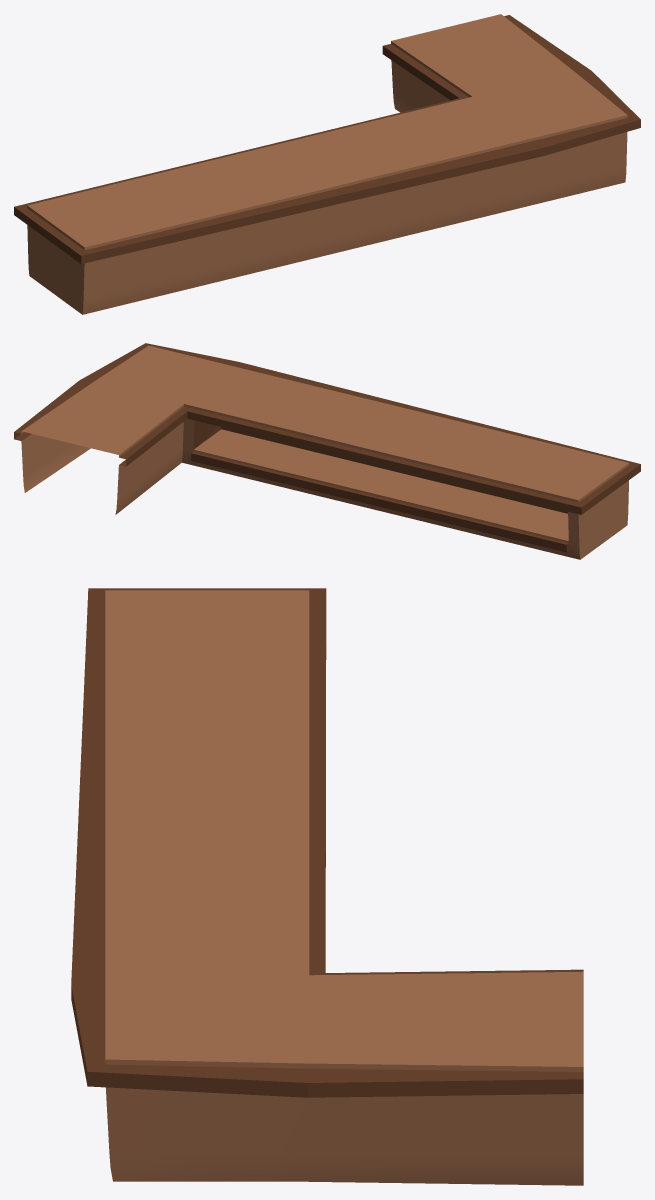
The model's file is BarWithBottomShelf.fbx.
The picture shows the model from 3 angles, top to bottom: view 1: azimuth 30°, elevation 25°; view 2: azimuth 150°, elevation 25°; view 3: azimuth 270°, elevation 25°; orthographic projection. The views are drawn at different scales.
Visible parts, largest first — view 1: Bar; view 2: Bar; view 3: Bar.
Boxes of the visible parts, x1,y1,x2,y2 form: Bar: (14, 14, 640, 314); Bar: (14, 343, 640, 559); Bar: (71, 588, 583, 1185).
Size of the model in its own units: 6.83 by 0.7868 by 2.99.
Materials: 1 (1 with a texture image).
